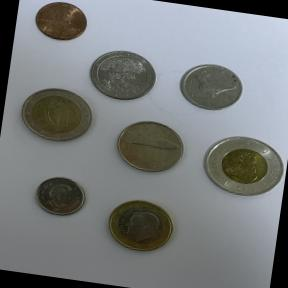coin: (193, 124, 288, 206), (10, 79, 100, 150), (98, 190, 181, 260), (82, 40, 166, 108), (106, 112, 189, 180), (26, 167, 92, 225), (27, 0, 92, 47)
